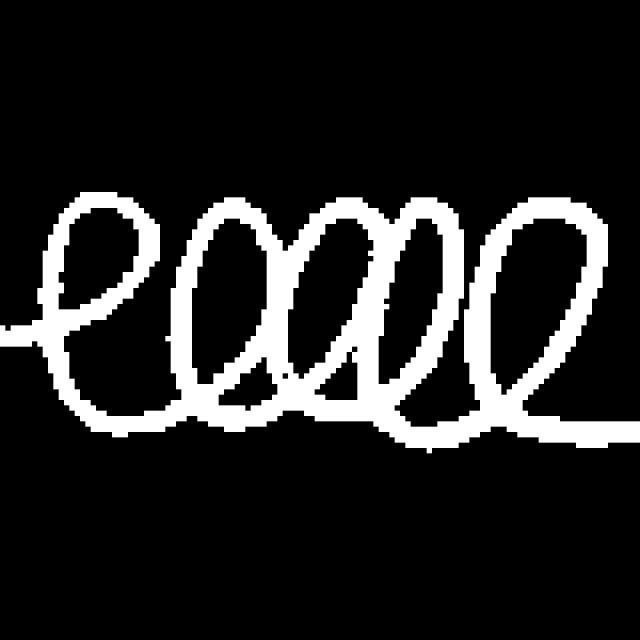inductor: (35, 175, 620, 458)
